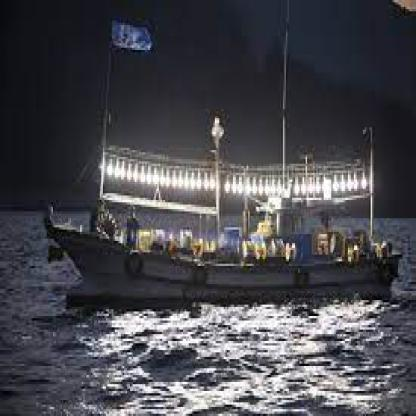fish-b: (41, 111, 405, 307)
